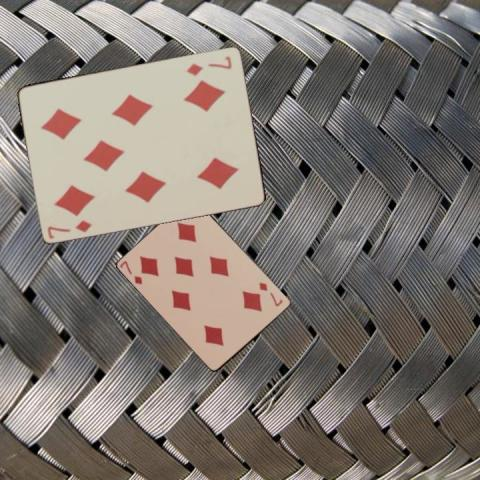7d: (184, 52, 234, 76), (45, 217, 94, 240), (256, 279, 284, 308), (117, 258, 144, 286)
